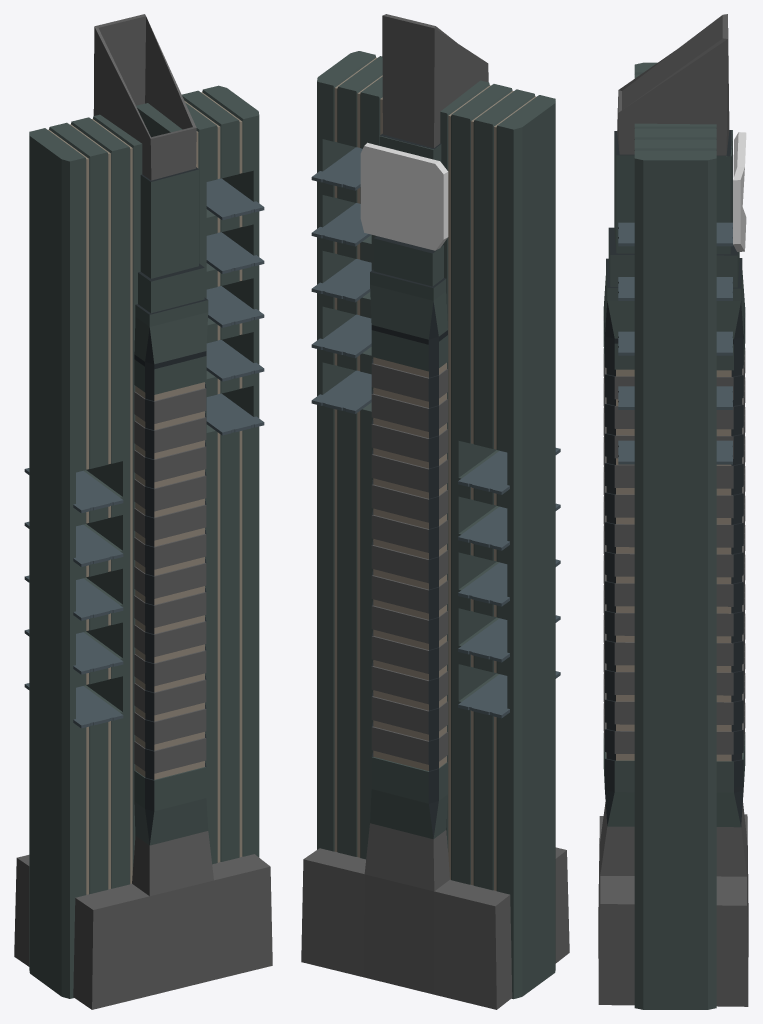
The model's file is building_62.fbx.
3 views of the same model, side by side, from view 1: azimuth 30°, elevation 25°; view 2: azimuth 150°, elevation 25°; view 3: azimuth 270°, elevation 25° (orthographic). The views are drawn at different scales.
Visible parts, largest first — view 1: building_62; view 2: building_62; view 3: building_62.
Part boxes in pixels (<box>): building_62: <box>14,14,272,1009</box>; building_62: <box>301,14,569,1009</box>; building_62: <box>598,14,748,1009</box>.
Bounding box in the file's own units: 684 × 3058 × 445.
